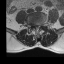CCS_normal: (36, 24, 38, 32)
LFS_severe_stenosis: (39, 23, 41, 28)
LLS_normal: (38, 24, 40, 29)
RFS_severe_stenosis: (33, 23, 35, 28)
RLS_stenosis: (35, 24, 36, 30)
